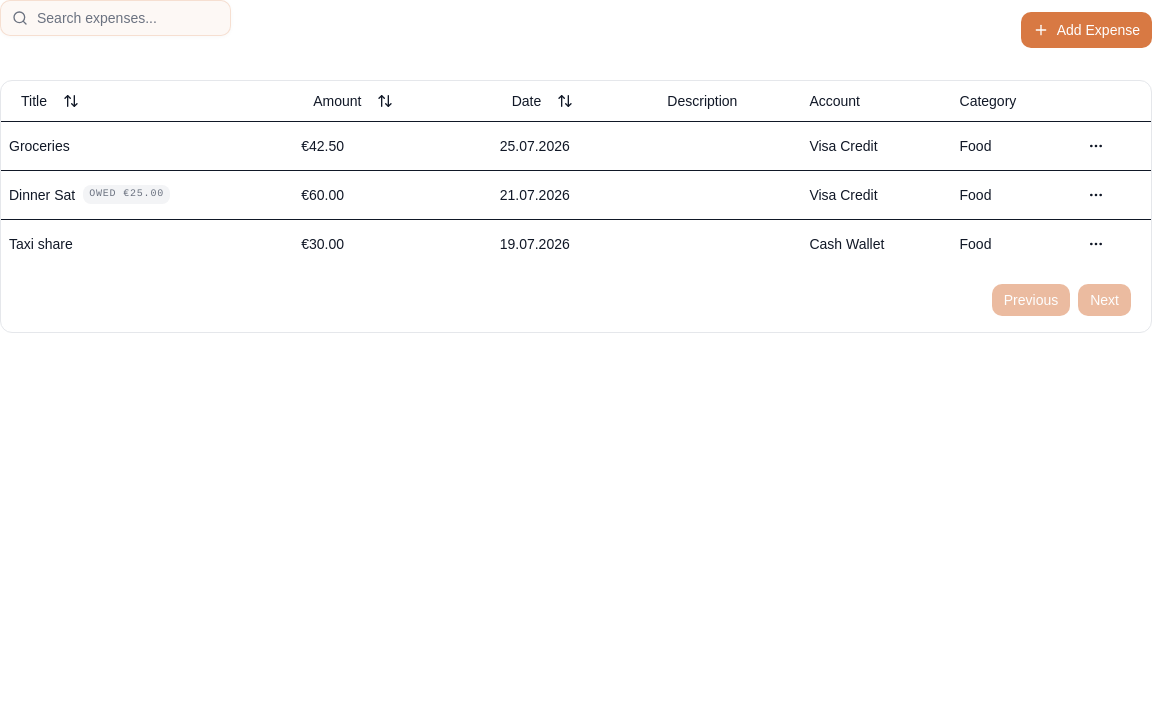
Test: ExpenseList settle action › opens the dialog with the amount defaulted to what is still open
What coordinates should you click on to do the following:
click the button named "open menu" in the row of "Dinner Sat"
I would click on:
 (1096, 194)
Its box is [1080, 178, 1112, 210].
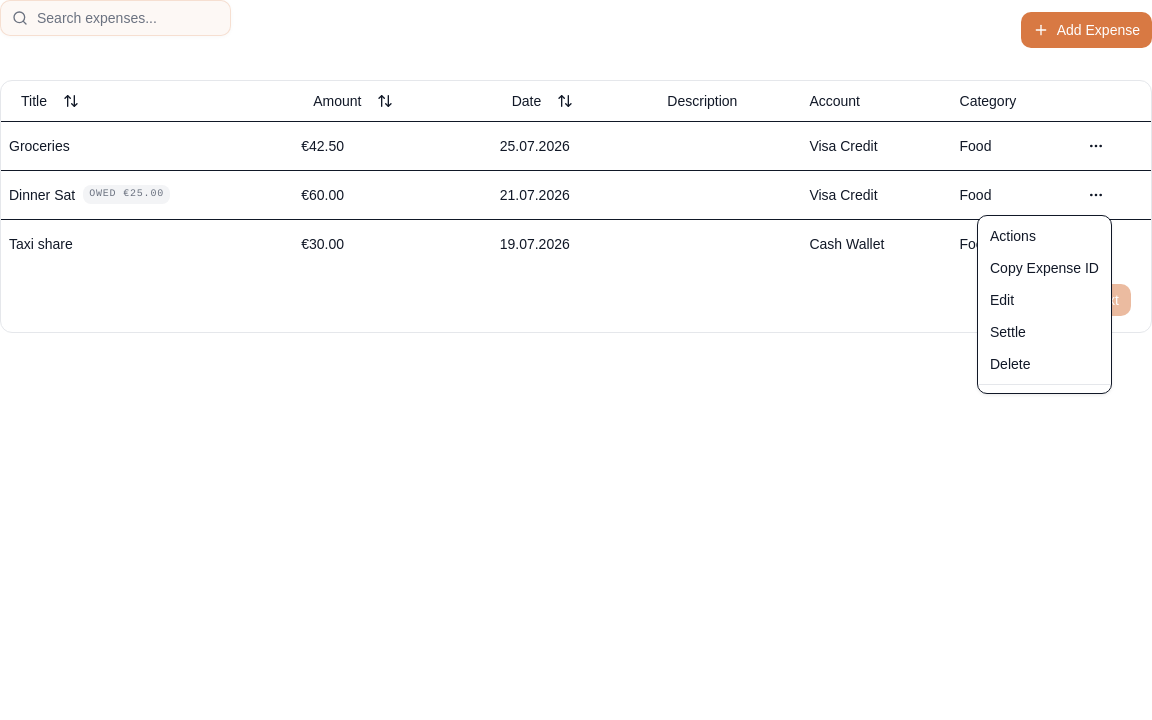
What coordinates should you click on to do the following:
click the menu item "Settle"
I would click on:
 (1008, 332)
Its box is [990, 324, 1026, 340].
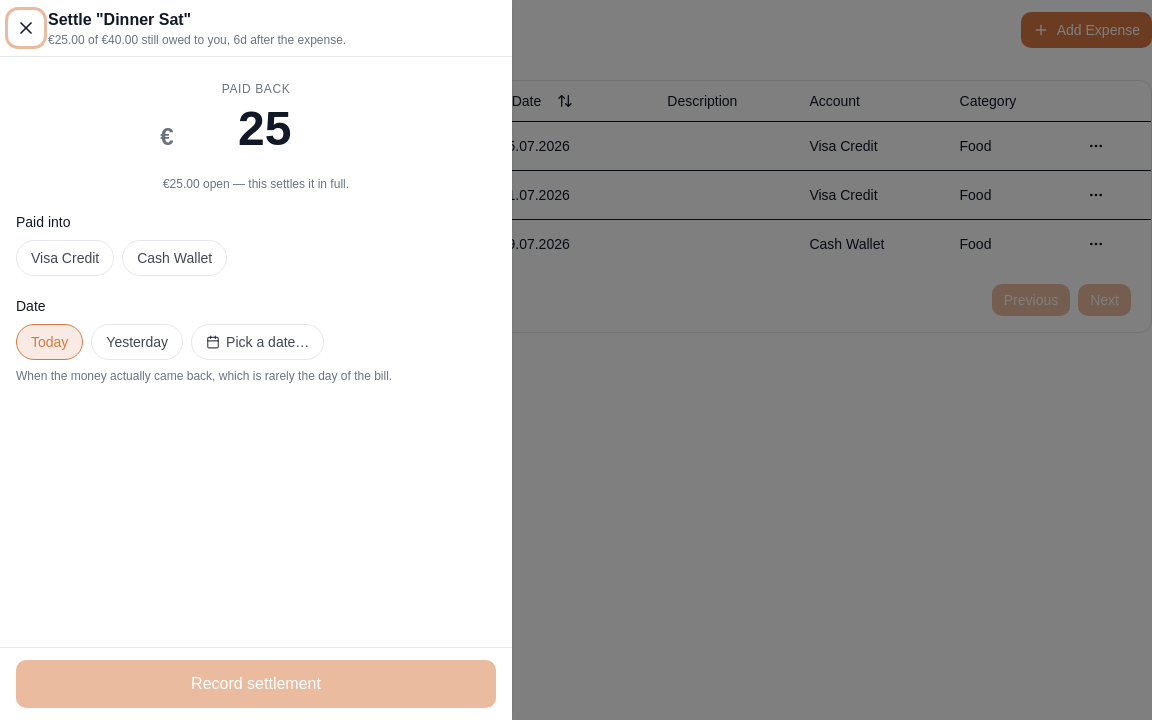
Expected: the field labelled "Paid back" holds "25", [178, 101, 352, 156]
Expected: the text with test id "settle-remainder" reads "€25.00 open — this settles it in full.", [163, 177, 349, 191]
